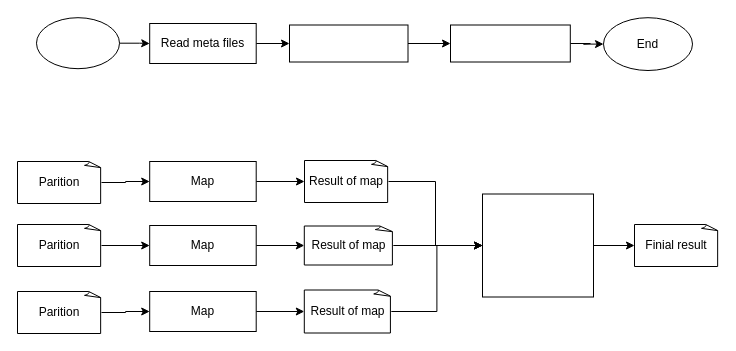
Image size: 736x351. Some labels were removed from this diagram. The centre of each missing label's shape, as x and y in pixels:
"Modify the metadat" goes at [348,43].
"Reduce" goes at [538,245].
"Rewrite and save the meta files" goes at [510,43].
"Start" goes at [78,43].
